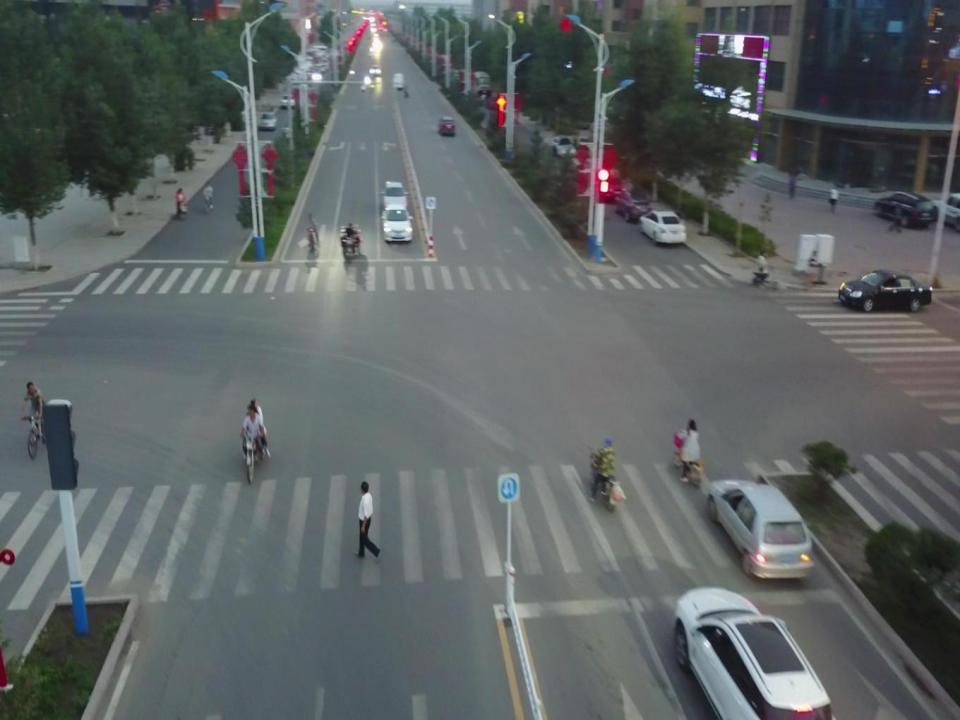bus: (474, 68, 489, 99)
car: (673, 585, 838, 720), (710, 475, 814, 579), (838, 269, 934, 312), (874, 192, 936, 228), (640, 209, 688, 246), (382, 204, 414, 244), (618, 189, 648, 221), (379, 178, 407, 208), (932, 193, 960, 222), (550, 133, 573, 158), (436, 115, 458, 137), (257, 109, 276, 130), (280, 90, 294, 108), (577, 134, 592, 150), (390, 72, 404, 86)
